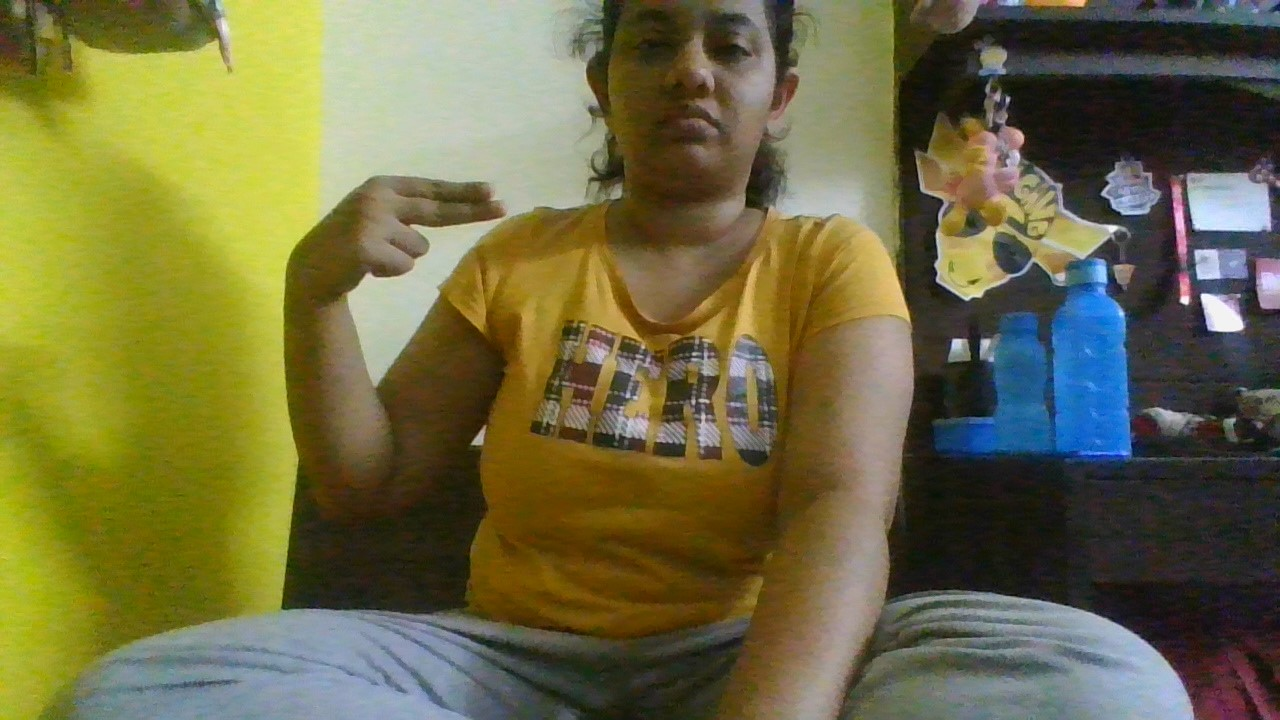h: (267, 164, 517, 308)
